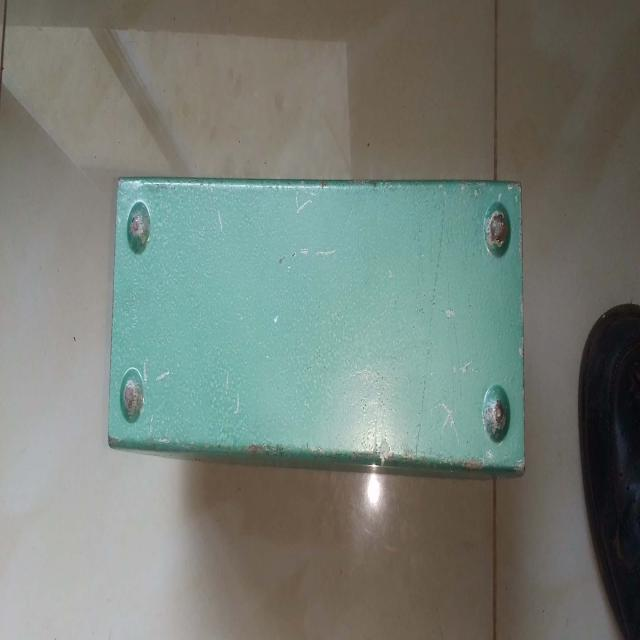Decade Resistance Box: (102, 169, 536, 493)
